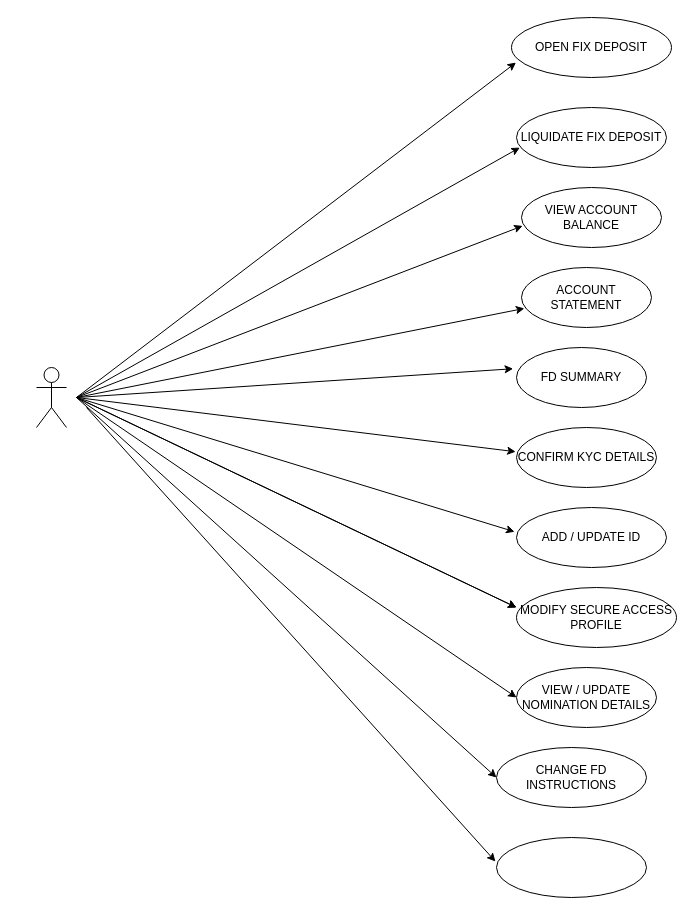
The diagram is 694 pixels wide and 915 high, and some of its shapes have lost their labels. The centre of each missing label's shape, as x and y in pixels:
CUSTOMER: point (51, 397)
WITHDRAW MONEY: point (571, 867)
